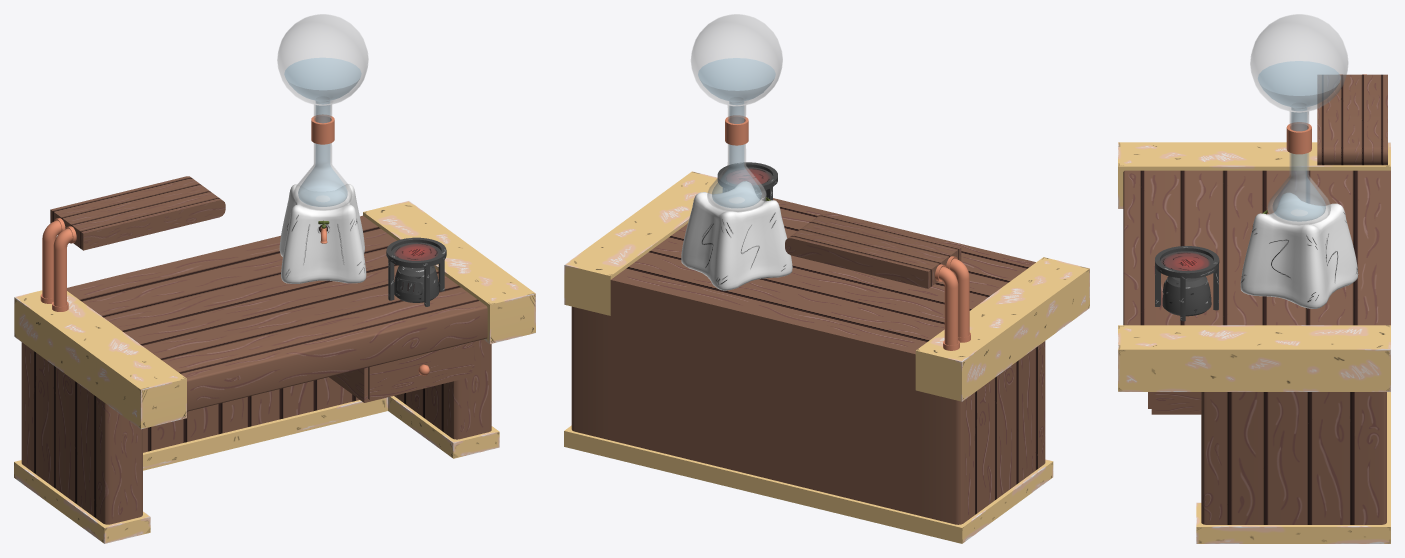
The model's file is mesaPocoes.fbx.
The picture shows the model from 3 angles, left to right: view 1: azimuth 30°, elevation 25°; view 2: azimuth 150°, elevation 25°; view 3: azimuth 270°, elevation 25°; orthographic projection. The views are drawn at different scales.
Visible parts, largest first — view 1: Mesa, Galão, Bebedouro, Estante, Água, Gaveta, Canos, Suporte, ArmaçãoGaveta, Fornalha; view 2: Mesa, Galão, Bebedouro, Estante, Água, Canos, Suporte; view 3: Mesa, Galão, Bebedouro, Estante, Água, Suporte, Fornalha, ArmaçãoGaveta.
Boxes of the visible parts, left/top/right/bottom form: Mesa: left=14, top=201, right=535, bottom=543; Galão: left=277, top=14, right=368, bottom=210; Bebedouro: left=279, top=184, right=366, bottom=283; Estante: left=50, top=176, right=225, bottom=250; Água: left=284, top=58, right=361, bottom=206; Gaveta: left=368, top=342, right=472, bottom=399; Canos: left=40, top=218, right=76, bottom=311; Suporte: left=386, top=237, right=446, bottom=306; ArmaçãoGaveta: left=329, top=341, right=474, bottom=402; Fornalha: left=394, top=265, right=439, bottom=302; Mesa: left=564, top=171, right=1089, bottom=543; Galão: left=691, top=14, right=782, bottom=211; Bebedouro: left=681, top=181, right=792, bottom=290; Estante: left=785, top=214, right=961, bottom=288; Água: left=698, top=58, right=775, bottom=208; Canos: left=935, top=256, right=970, bottom=350; Suporte: left=717, top=162, right=777, bottom=200; Mesa: left=1118, top=142, right=1390, bottom=543; Galão: left=1250, top=14, right=1348, bottom=225; Bebedouro: left=1240, top=193, right=1358, bottom=308; Estante: left=1317, top=74, right=1387, bottom=165; Água: left=1258, top=61, right=1340, bottom=221; Suporte: left=1155, top=246, right=1219, bottom=321; Fornalha: left=1162, top=276, right=1211, bottom=316; ArmaçãoGaveta: left=1151, top=392, right=1201, bottom=414.
Size of the model in its own units: 555 by 571 by 309.
